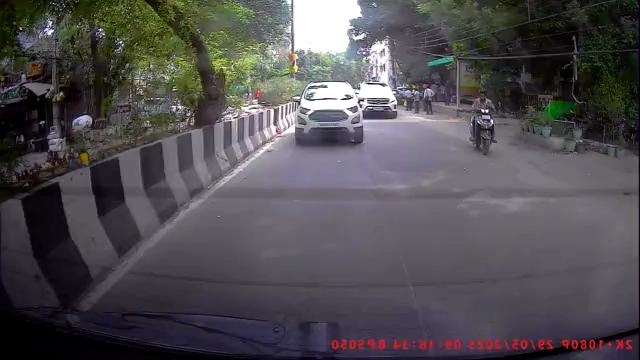motorcycle_without_helmet: (464, 92, 504, 156)
